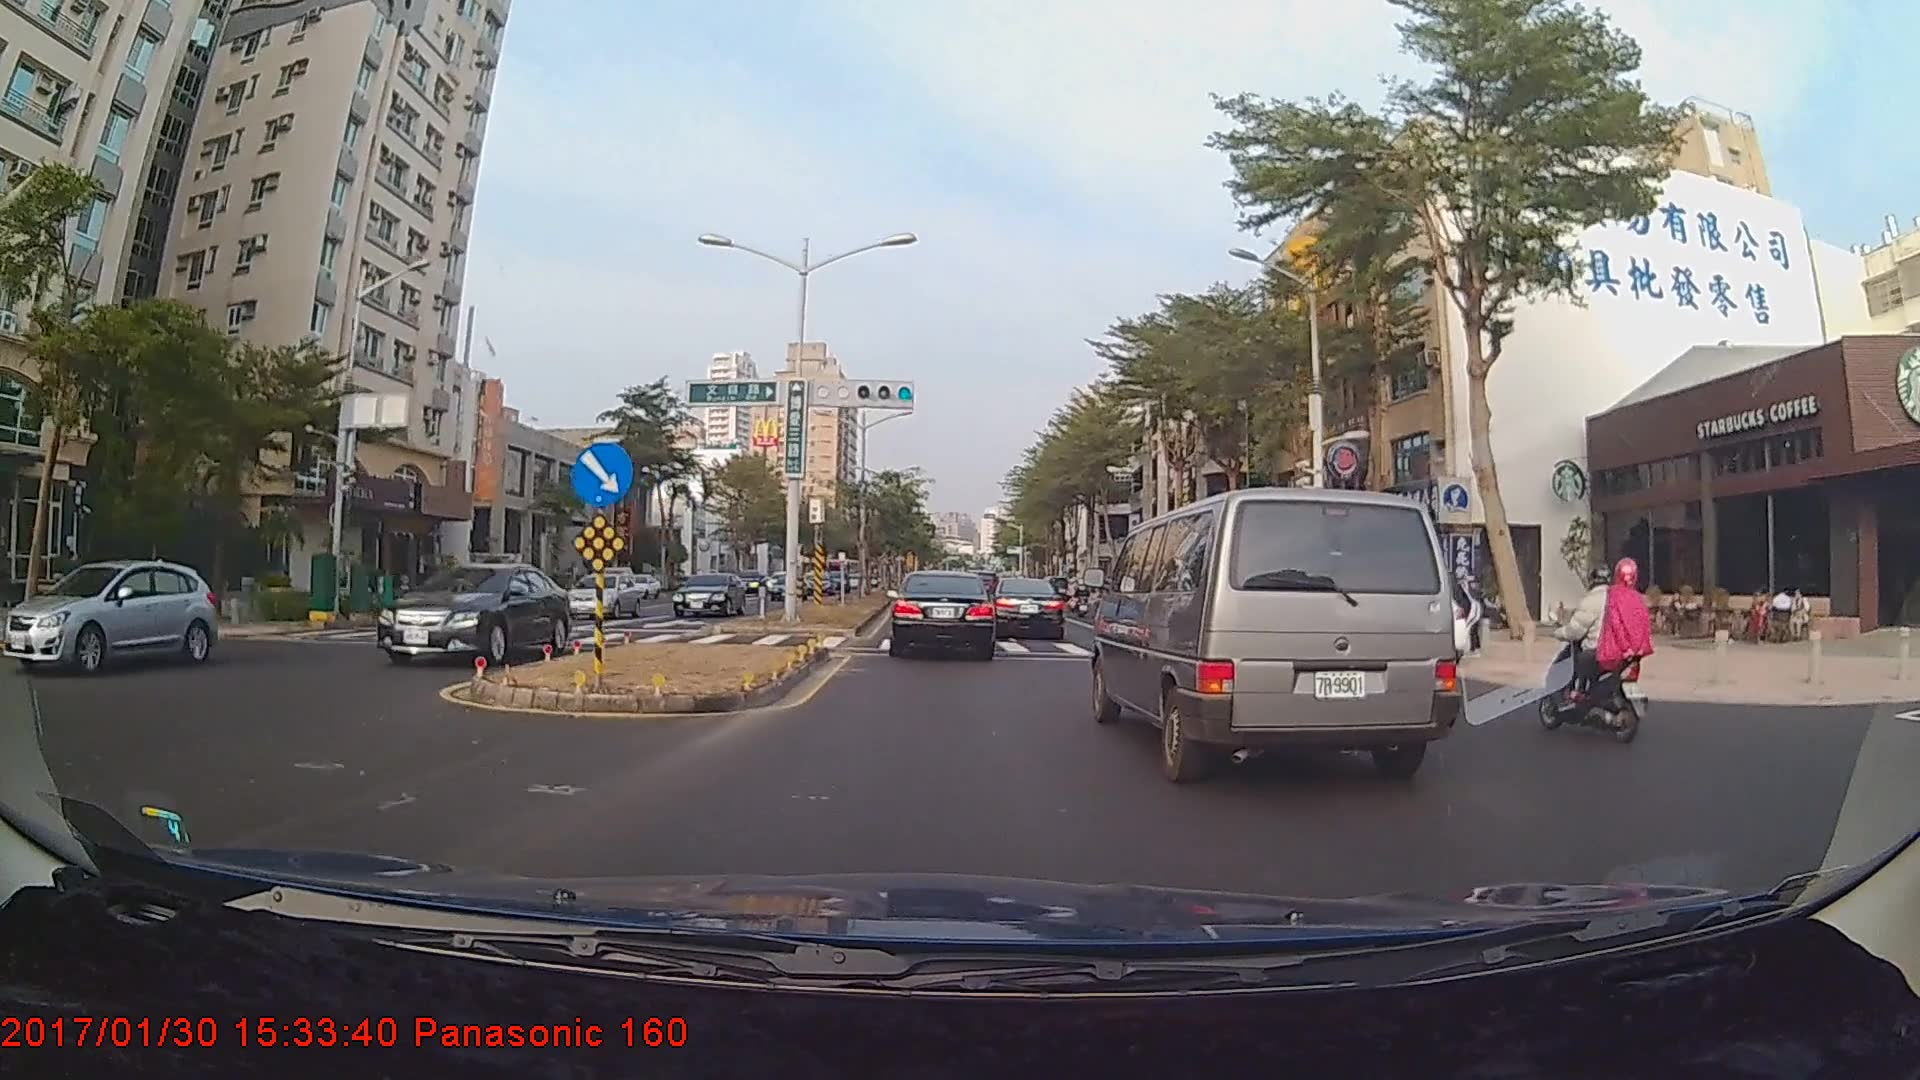rider: (1535, 557, 1667, 747)
vehicle: (1093, 481, 1464, 782), (0, 557, 219, 676), (375, 560, 571, 668), (886, 570, 998, 660), (991, 577, 1067, 639), (566, 572, 643, 623), (668, 570, 742, 620)
